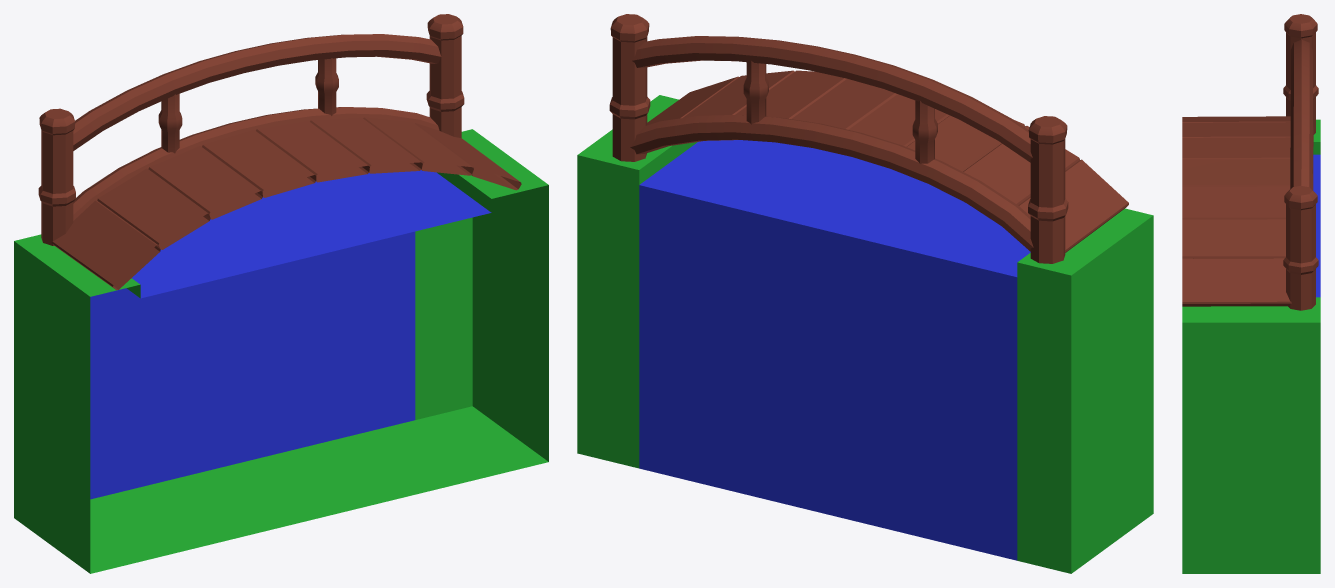
The model's file is module-edge_river_bridge_001.glb.
The picture shows the model from 3 angles, left to right: view 1: azimuth 30°, elevation 25°; view 2: azimuth 150°, elevation 25°; view 3: azimuth 270°, elevation 25°; orthographic projection. The views are drawn at different scales.
Parts seen in each view (by area): view 1: module-edge_river_bridge_001; view 2: module-edge_river_bridge_001; view 3: module-edge_river_bridge_001.
Part boxes in pixels (left/top/right/bottom): module-edge_river_bridge_001: left=14, top=14, right=548, bottom=573; module-edge_river_bridge_001: left=577, top=14, right=1153, bottom=573; module-edge_river_bridge_001: left=1182, top=14, right=1320, bottom=573.
Bounding box in the file's own units: 0.866 × 0.7618 × 0.2497.
